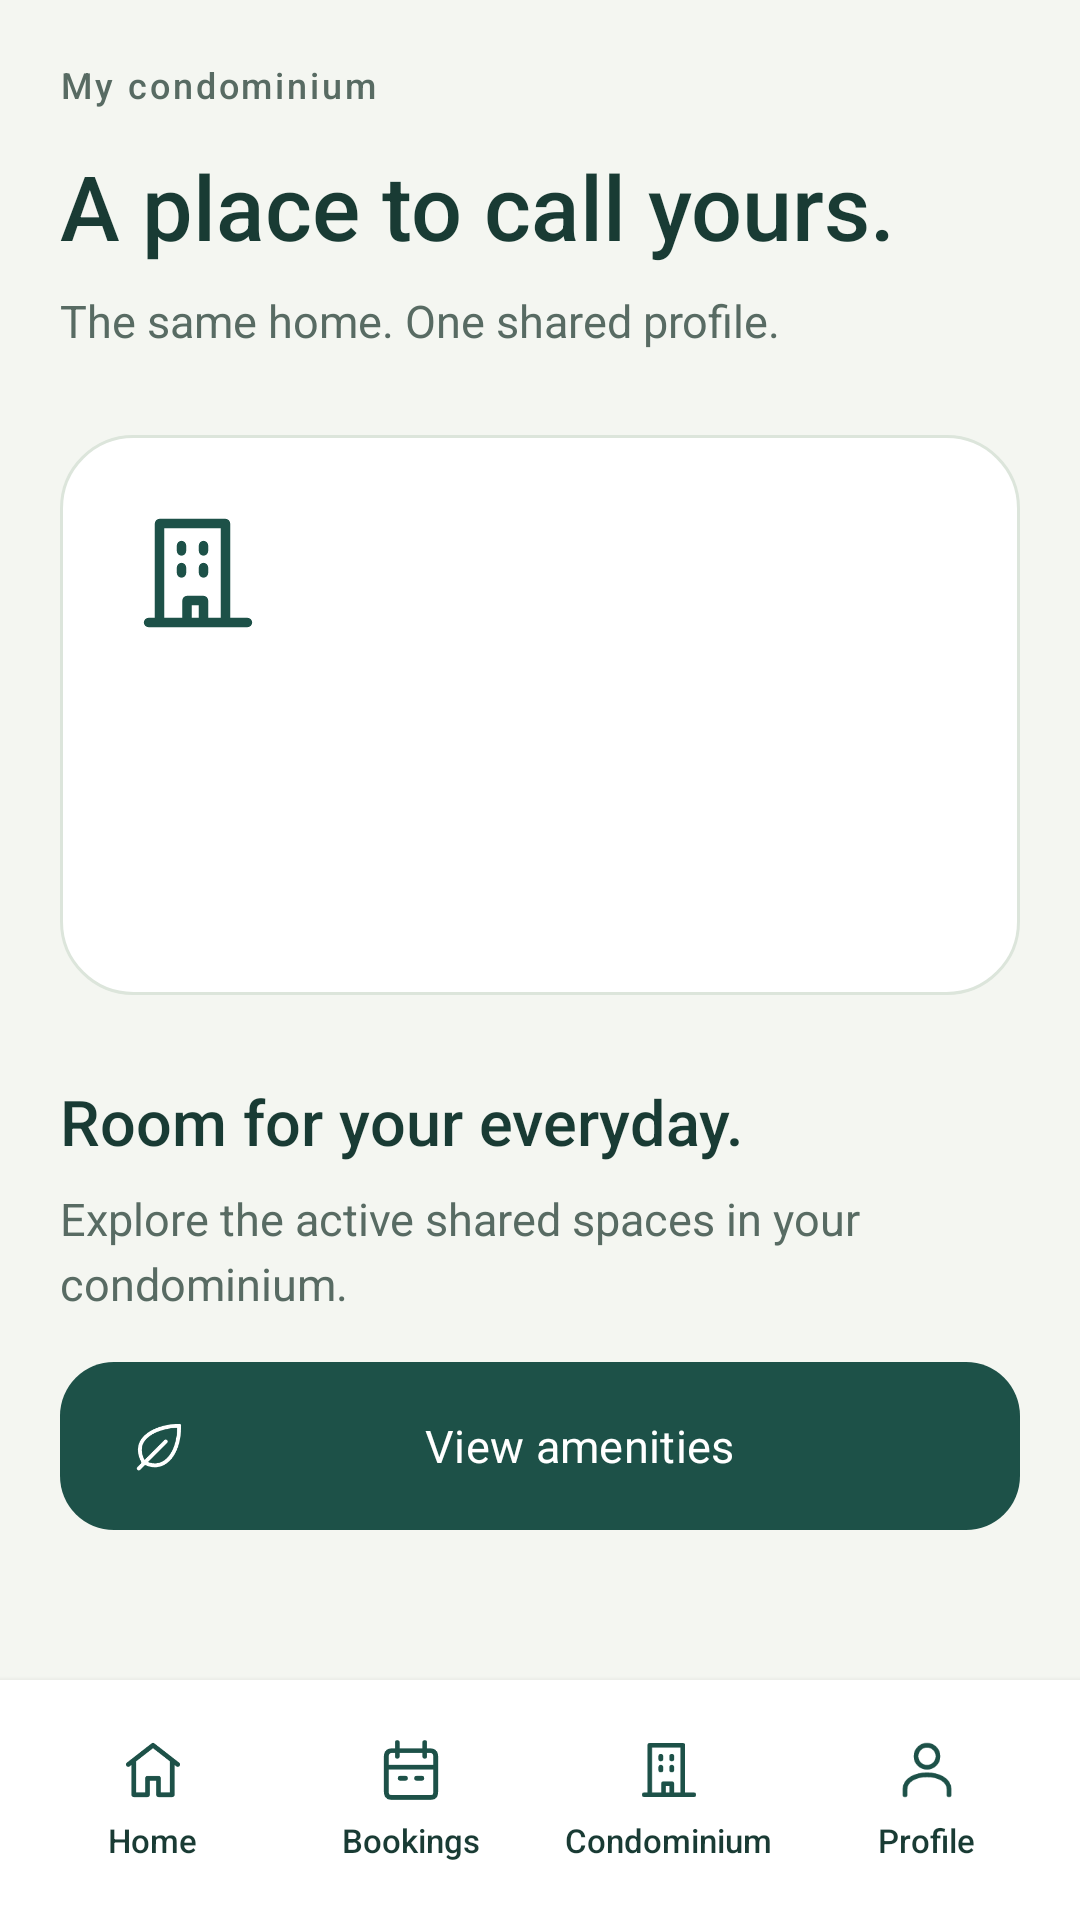

Where icons sit on this 1080 × 1920 app screen, as (x1, y1, x2, y2):
building: (143, 518, 253, 628), (642, 1743, 696, 1797)
calendar: (383, 1740, 439, 1800)
person: (902, 1742, 952, 1798)
